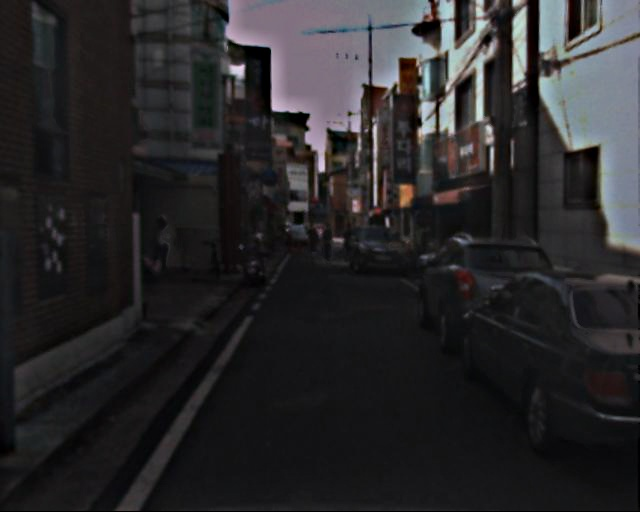person: (152, 213, 177, 275), (305, 219, 324, 265), (341, 221, 359, 265), (320, 222, 338, 266)
